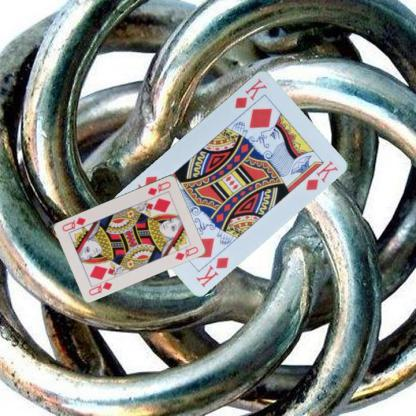Kd: (193, 254, 230, 288), (232, 76, 268, 110)
Qd: (86, 275, 113, 296), (145, 178, 172, 196)
